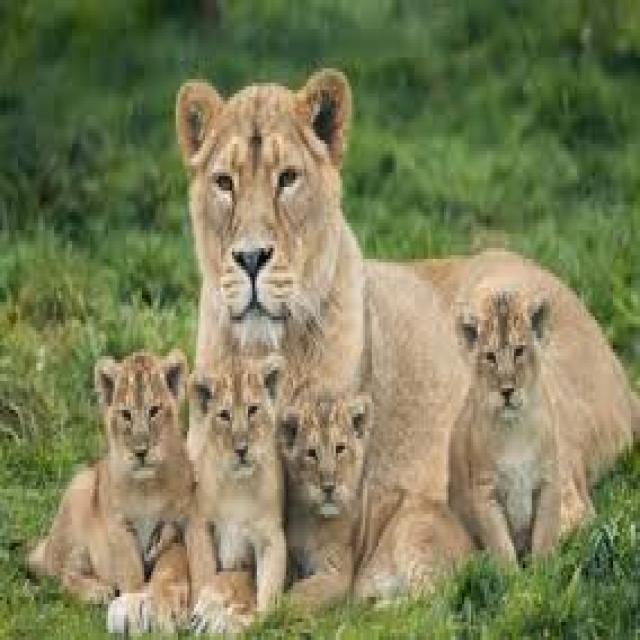Lion: (174, 72, 638, 601), (27, 347, 221, 607), (284, 400, 478, 610), (443, 290, 558, 578), (184, 349, 291, 615)
